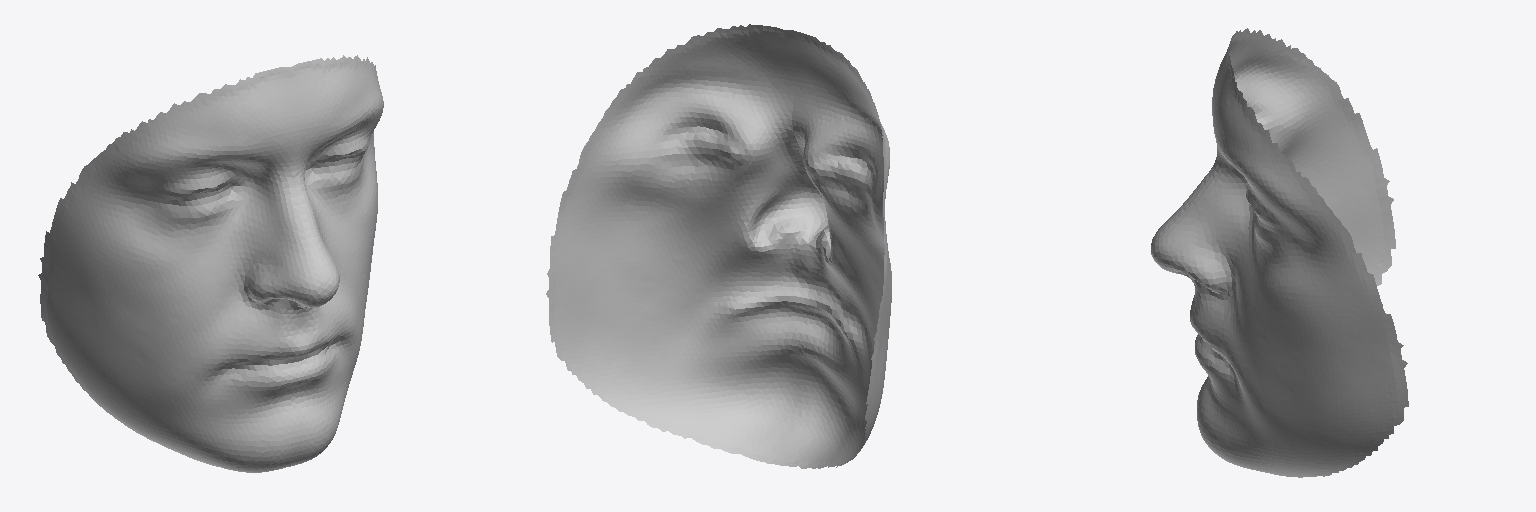
Rendered from SIMPOP_15.obj.
3 views of the same model, side by side, from view 1: azimuth 30°, elevation 25°; view 2: azimuth 150°, elevation 25°; view 3: azimuth 270°, elevation 25° (orthographic).
Visible parts, largest first — view 1: SIMPOP_15; view 2: SIMPOP_15; view 3: SIMPOP_15.
Part boxes in pixels (left/top/right/bottom): SIMPOP_15: left=38, top=55, right=383, bottom=472; SIMPOP_15: left=546, top=24, right=891, bottom=468; SIMPOP_15: left=1151, top=28, right=1408, bottom=477.
Size of the model in its own units: 141 by 174 by 98.02.